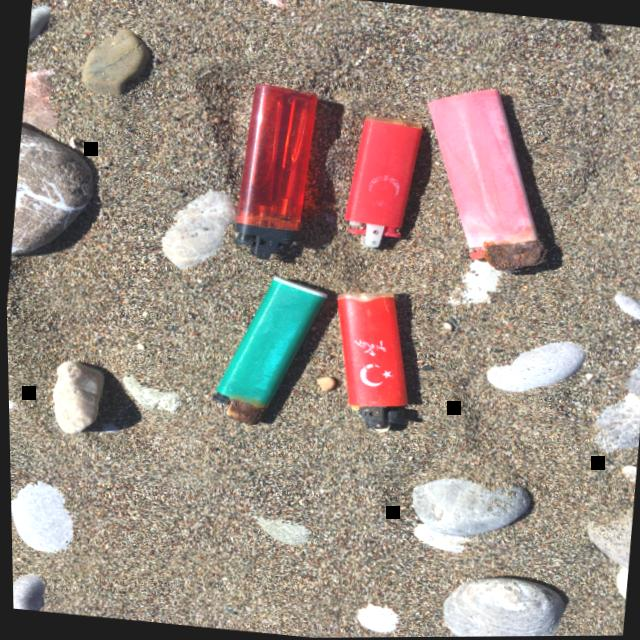Unlabeled litter: (427, 90, 547, 273), (210, 277, 326, 426), (232, 84, 317, 259), (343, 116, 421, 248), (335, 293, 407, 434)
